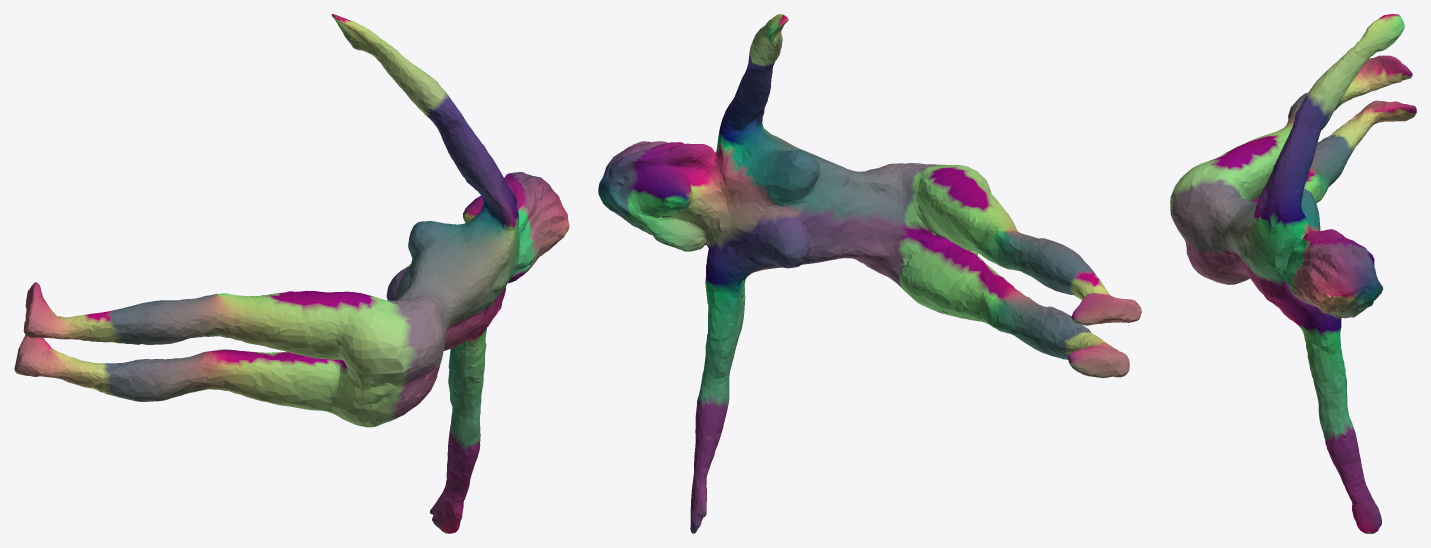
The model's file is woman-15.off.obj.
3 views of the same model, side by side, from view 1: azimuth 30°, elevation 25°; view 2: azimuth 150°, elevation 25°; view 3: azimuth 270°, elevation 25° (orthographic). The views are drawn at different scales.
Size of the model in its own units: 1.48 by 1.43 by 0.6725.
